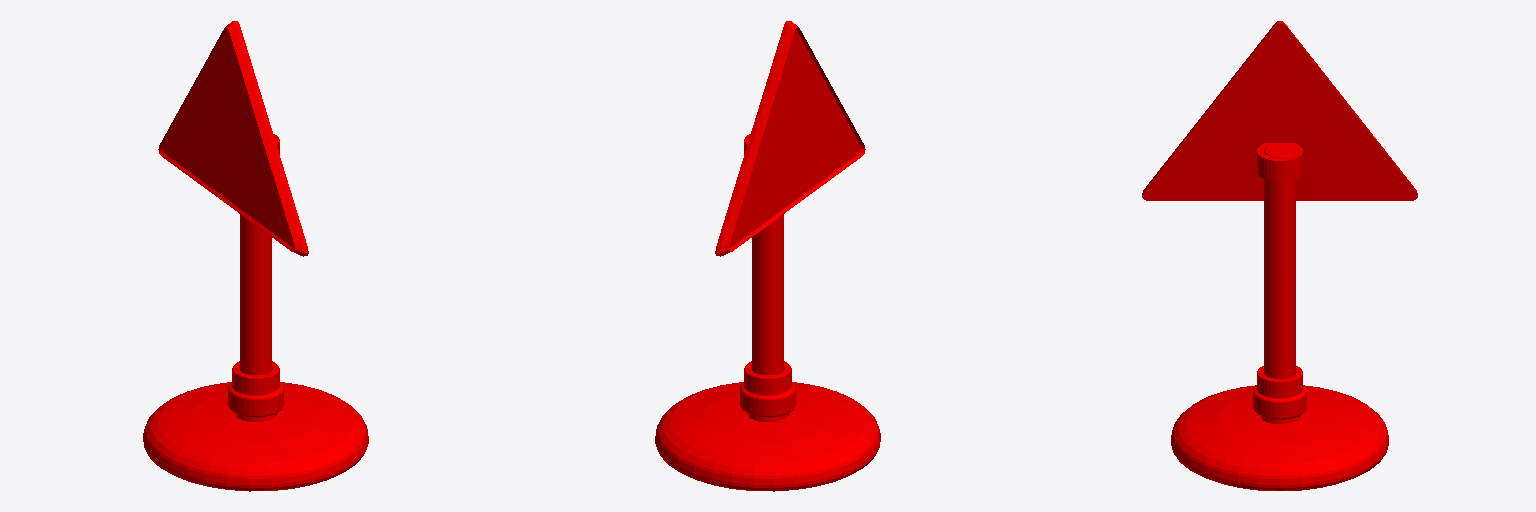
The robot description file, URDF, robot "sign":
<?xml version="1.0"?>
<robot name="sign">
  <link name="base">
   <contact>
      <lateral_friction value="1.0"/>
      <rolling_friction value="0.0"/>
      <contact_cfm value="0.0"/>
      <contact_erp value="1.0"/>
    </contact>
    <inertial>
      <origin rpy="0 0 0" xyz="0 0 0"/>
       <mass value="1.0"/>
       <inertia ixx="1" ixy="0" ixz="0" iyy="1" iyz="0" izz="1"/>
    </inertial>
    <visual>
      <geometry>
        <mesh filename="OBJ/sign.obj" scale="1 1 1"/>
      </geometry>
      <origin rpy="0 0 0" xyz="0 0 0" />
      <material name="red"/>
    </visual>
    <collision>
      <origin rpy="0 0 0" xyz="0 0 0"/>
      <geometry>
         <mesh filename="OBJ/sign.obj" scale="1 1 1"/>
      </geometry>
    </collision>
  </link>

<material name="red"><color rgba="0.99 0 0 1"/></material>
<material name="orange"><color rgba="1 0.5 0 1"/></material>
<material name="yellow"><color rgba="0.95 0.95 0 1"/></material>
<material name="green"><color rgba="0 0.99 0 1"/></material>
<material name="skyblue"><color rgba="0.53 0.81 0.92 1"/></material>
<material name="blue"><color rgba="0 0 0.99 1"/></material>
<material name="purple"><color rgba="0.95 0 0.95 1"/></material>



</robot>

--- Facts derived from the render (not from the file) ---
3 views of the same robot in one strip: view 1: azimuth 30°, elevation 25°; view 2: azimuth 150°, elevation 25°; view 3: azimuth 270°, elevation 25° (orthographic).
Robot: sign — 1 links, 0 joints (none); root link base; default pose: all joints at 0.
Visible links, largest first — view 1: base; view 2: base; view 3: base.
Link boxes in pixels (x1,y1,x2,y2): base: (143,21,368,491); base: (655,21,880,491); base: (1142,21,1417,490).
Bounding box of the posed robot: 0.0801 × 0.1011 × 0.1679 m (x, y, z).
1 mesh visuals loaded from 1 distinct referenced files (1 OBJ).